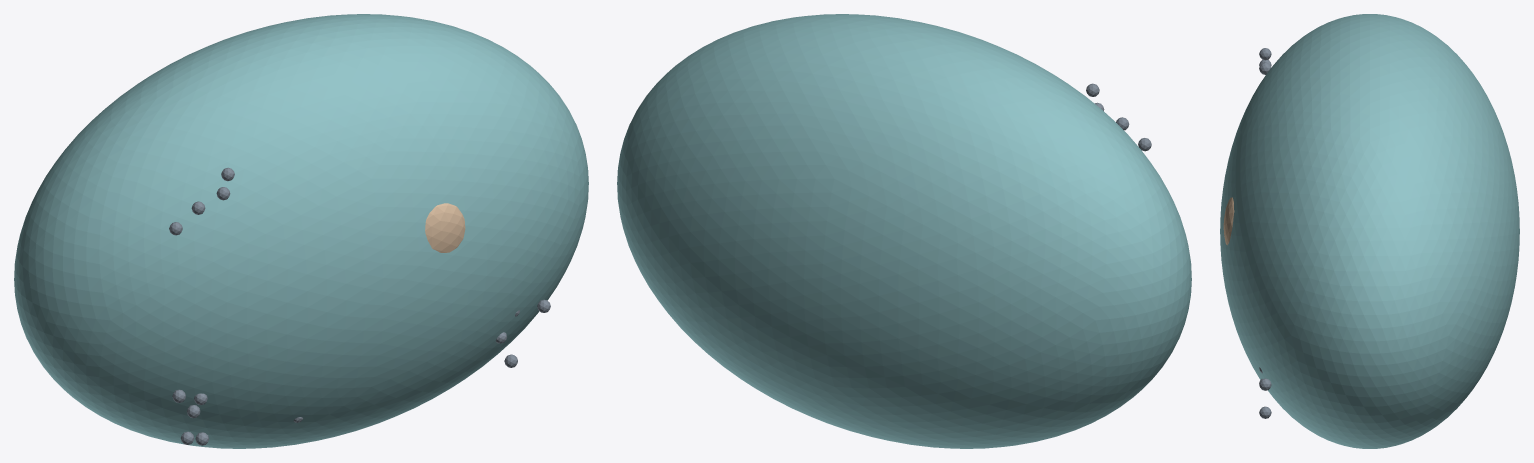
The model's file is sel-hewan.glb.
The picture shows the model from 3 angles, left to right: view 1: azimuth 30°, elevation 25°; view 2: azimuth 150°, elevation 25°; view 3: azimuth 270°, elevation 25°; orthographic projection. The views are drawn at different scales.
Parts seen in each view (by area): view 1: part_000, part_003; view 2: part_000; view 3: part_000, part_003.
Part boxes in pixels (left/top/right/bottom): part_000: left=14, top=14, right=588, bottom=448; part_003: left=425, top=203, right=465, bottom=252; part_000: left=617, top=14, right=1191, bottom=448; part_000: left=1220, top=14, right=1519, bottom=448; part_003: left=1223, top=197, right=1234, bottom=245.
Bounding box in the file's own units: 1.66 × 1.14 × 0.86.
